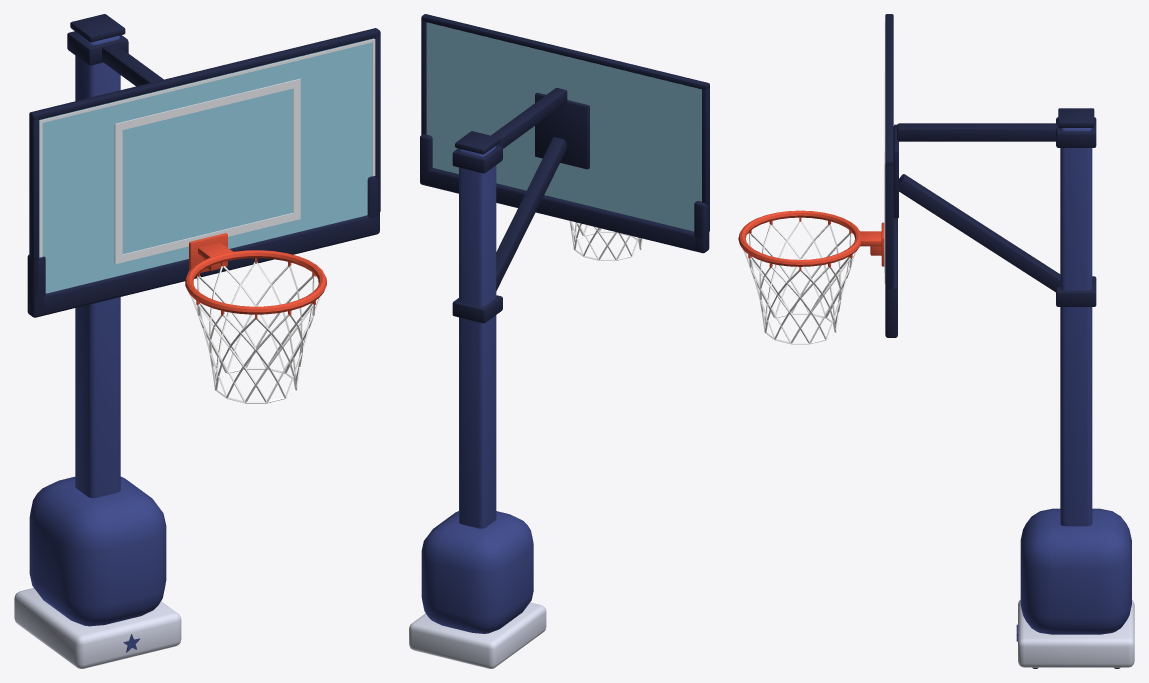
The model's file is hoop_azul.glb.
The picture shows the model from 3 angles, left to right: view 1: azimuth 30°, elevation 25°; view 2: azimuth 150°, elevation 25°; view 3: azimuth 270°, elevation 25°; orthographic projection. The views are drawn at different scales.
Visible parts, largest first — view 1: Tabela, Base, Poste, Quadrado, Rede, Aro, Braco; view 2: Tabela, Base, Poste, Braco, Rede; view 3: Base, Poste, Braco, Rede, Tabela, Aro.
Boxes of the visible parts, <box> form: Tabela: <box>27,28,380,317</box>; Base: <box>14,476,181,668</box>; Poste: <box>70,14,125,498</box>; Quadrado: <box>114,78,300,264</box>; Rede: <box>190,262,321,403</box>; Aro: <box>185,233,326,319</box>; Braco: <box>67,31,163,86</box>; Tabela: <box>420,14,709,253</box>; Base: <box>409,511,546,668</box>; Poste: <box>455,131,500,528</box>; Braco: <box>452,88,589,323</box>; Rede: <box>569,221,642,260</box>; Base: <box>1016,508,1134,668</box>; Poste: <box>1058,108,1094,526</box>; Braco: <box>893,117,1096,306</box>; Rede: <box>743,221,857,344</box>; Tabela: <box>884,14,897,337</box>; Aro: <box>738,210,884,270</box>.
Bounding box in the file's own units: 3.3 × 5.87 × 3.73.
